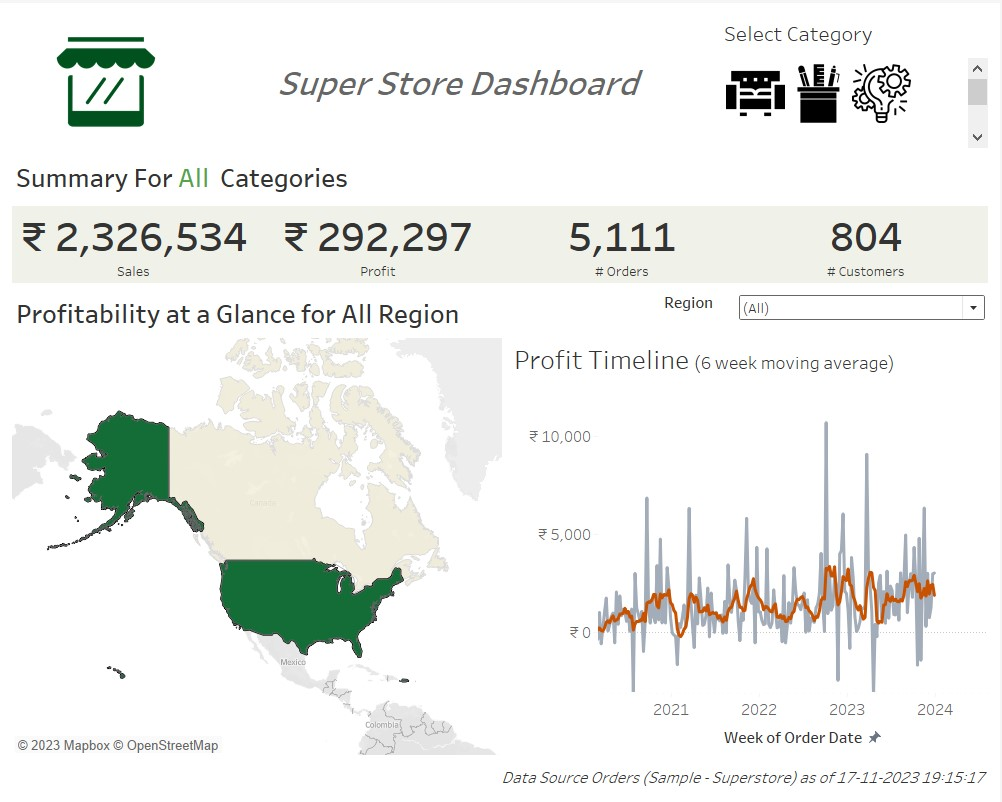

This screenshot's page, from the dashboard's own definition file:
{"tool":"tableau","page":{"name":"Super Store Dashboard","canvas":[1000,800],"ordinal":0},"visuals":[{"type":"image","param":"C:/Users/AkshaySanas/Downloads/Store Icon.png","box":[8,8,196,141]},{"type":"text","box":[204,8,512,141]},{"type":"worksheet","title":"01 Menu","mark":"Shape","box":[716,8,276,141]},{"type":"worksheet","title":"02 Baner","mark":"Automatic","box":[8,149,984,136]},{"type":"worksheet","title":"03 Title","mark":"Automatic","box":[8,285,652,46]},{"type":"filter","title":"04 Profitability map","param":"[federated.00jmxkj0ib6rbp1fag2k71my3ttc].[none:Country/Region:nk]","box":[660,285,332,46]},{"type":"worksheet","title":"04 Profitability map","mark":"Automatic","box":[8,331,498,425]},{"type":"worksheet","title":"05 Profit Timeline","mark":"Automatic","rows":["Profit"],"cols":["Order Date"],"box":[506,331,486,425]},{"type":"worksheet","title":"06 Footer","mark":"Automatic","box":[8,756,984,36]}]}

Visuals, with their boxes in screenshot pixels (x1, y1, x2, y2), scaled from the page's 1000x800 canvas onto the 1002x802 screenshot:
image: 8/8/204/149
text: 204/8/717/149
"01 Menu" worksheet (Shape marks): 717/8/994/149
"02 Baner" worksheet: 8/149/994/286
"03 Title" worksheet: 8/286/661/332
"04 Profitability map" filter: 661/286/994/332
"04 Profitability map" worksheet: 8/332/507/758
"05 Profit Timeline" worksheet: 507/332/994/758
"06 Footer" worksheet: 8/758/994/794
